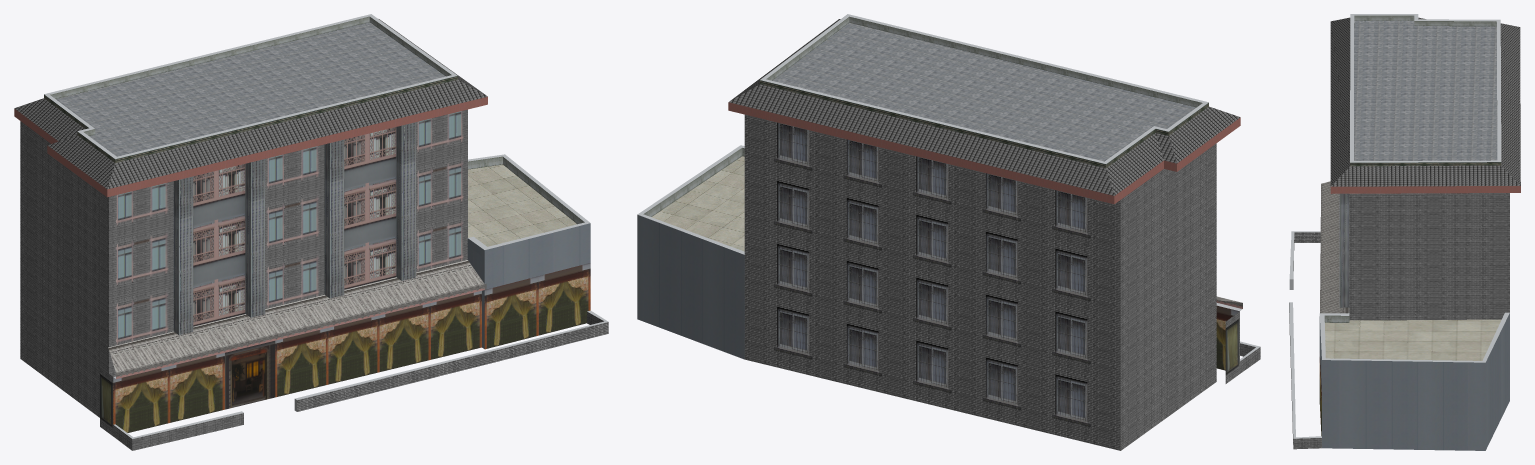
3 views of the same model, side by side, from view 1: azimuth 30°, elevation 25°; view 2: azimuth 150°, elevation 25°; view 3: azimuth 270°, elevation 25° (orthographic). The views are drawn at different scales.
Visible parts, largest first — view 1: jz27; view 2: jz27; view 3: jz27.
Part boxes in pixels (<box>): jz27: <box>14,14,608,450</box>; jz27: <box>637,14,1260,450</box>; jz27: <box>1289,14,1520,450</box>.
Bounding box in the file's own units: 2557 × 1329 × 1189.
Materials: 17 (17 with a texture image).
